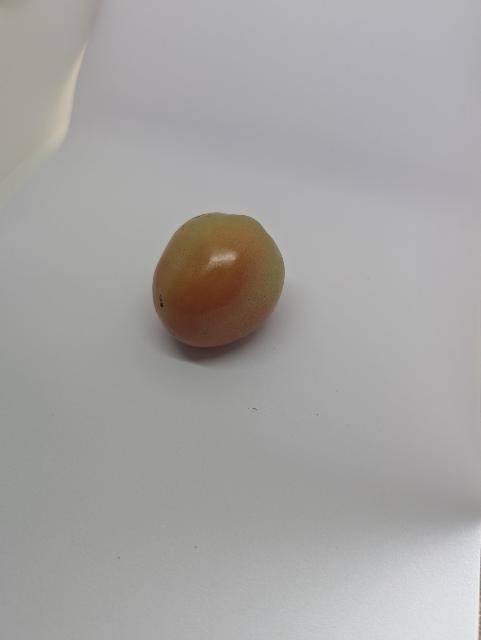turning: (143, 205, 292, 362)
